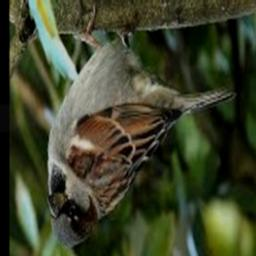Sparrow: (48, 8, 236, 248)
